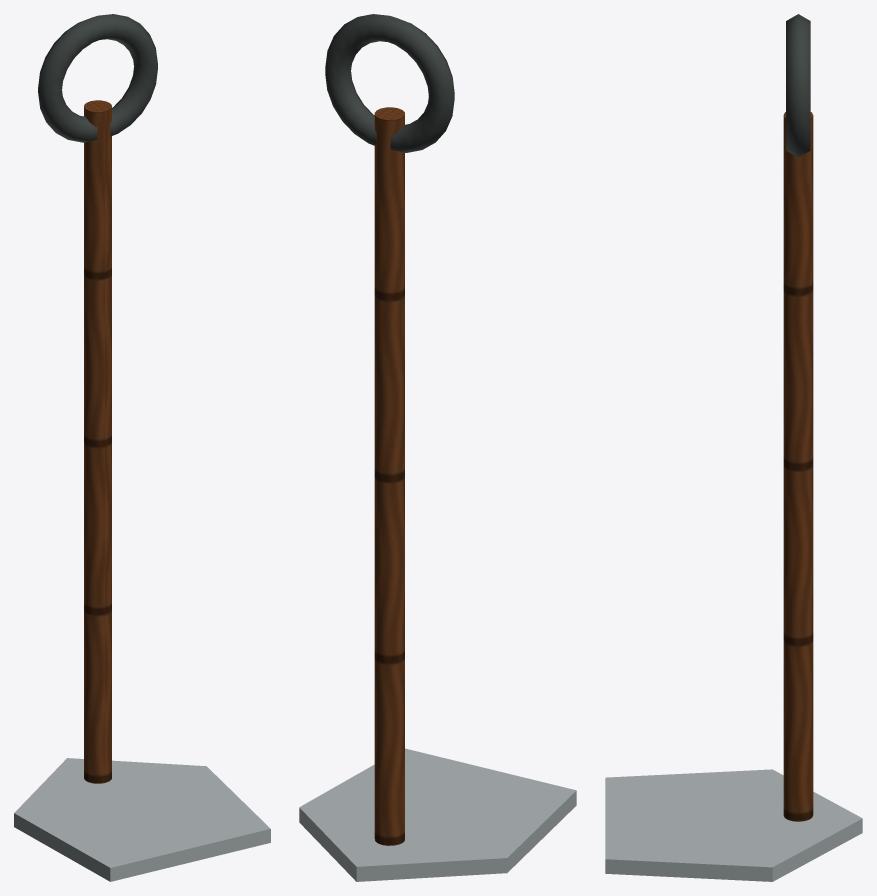
Rendered from flooded-and-coastal-survival-silt-shovel-61a7fd07__20084.glb.
3 renders of one model, left to right at view 1: azimuth 30°, elevation 25°; view 2: azimuth 150°, elevation 25°; view 3: azimuth 270°, elevation 25°, orthographic. The views are drawn at different scales.
Parts seen in each view (by area): view 1: silt-shovel; view 2: silt-shovel; view 3: silt-shovel.
Boxes of the visible parts, x1,y1,x2,y2 form: silt-shovel: (14,14,270,881); silt-shovel: (299,14,576,881); silt-shovel: (605,14,862,881).
Size of the model in its own units: 0.36 by 1.39 by 0.4.
Materials: 3 (1 with a texture image).
